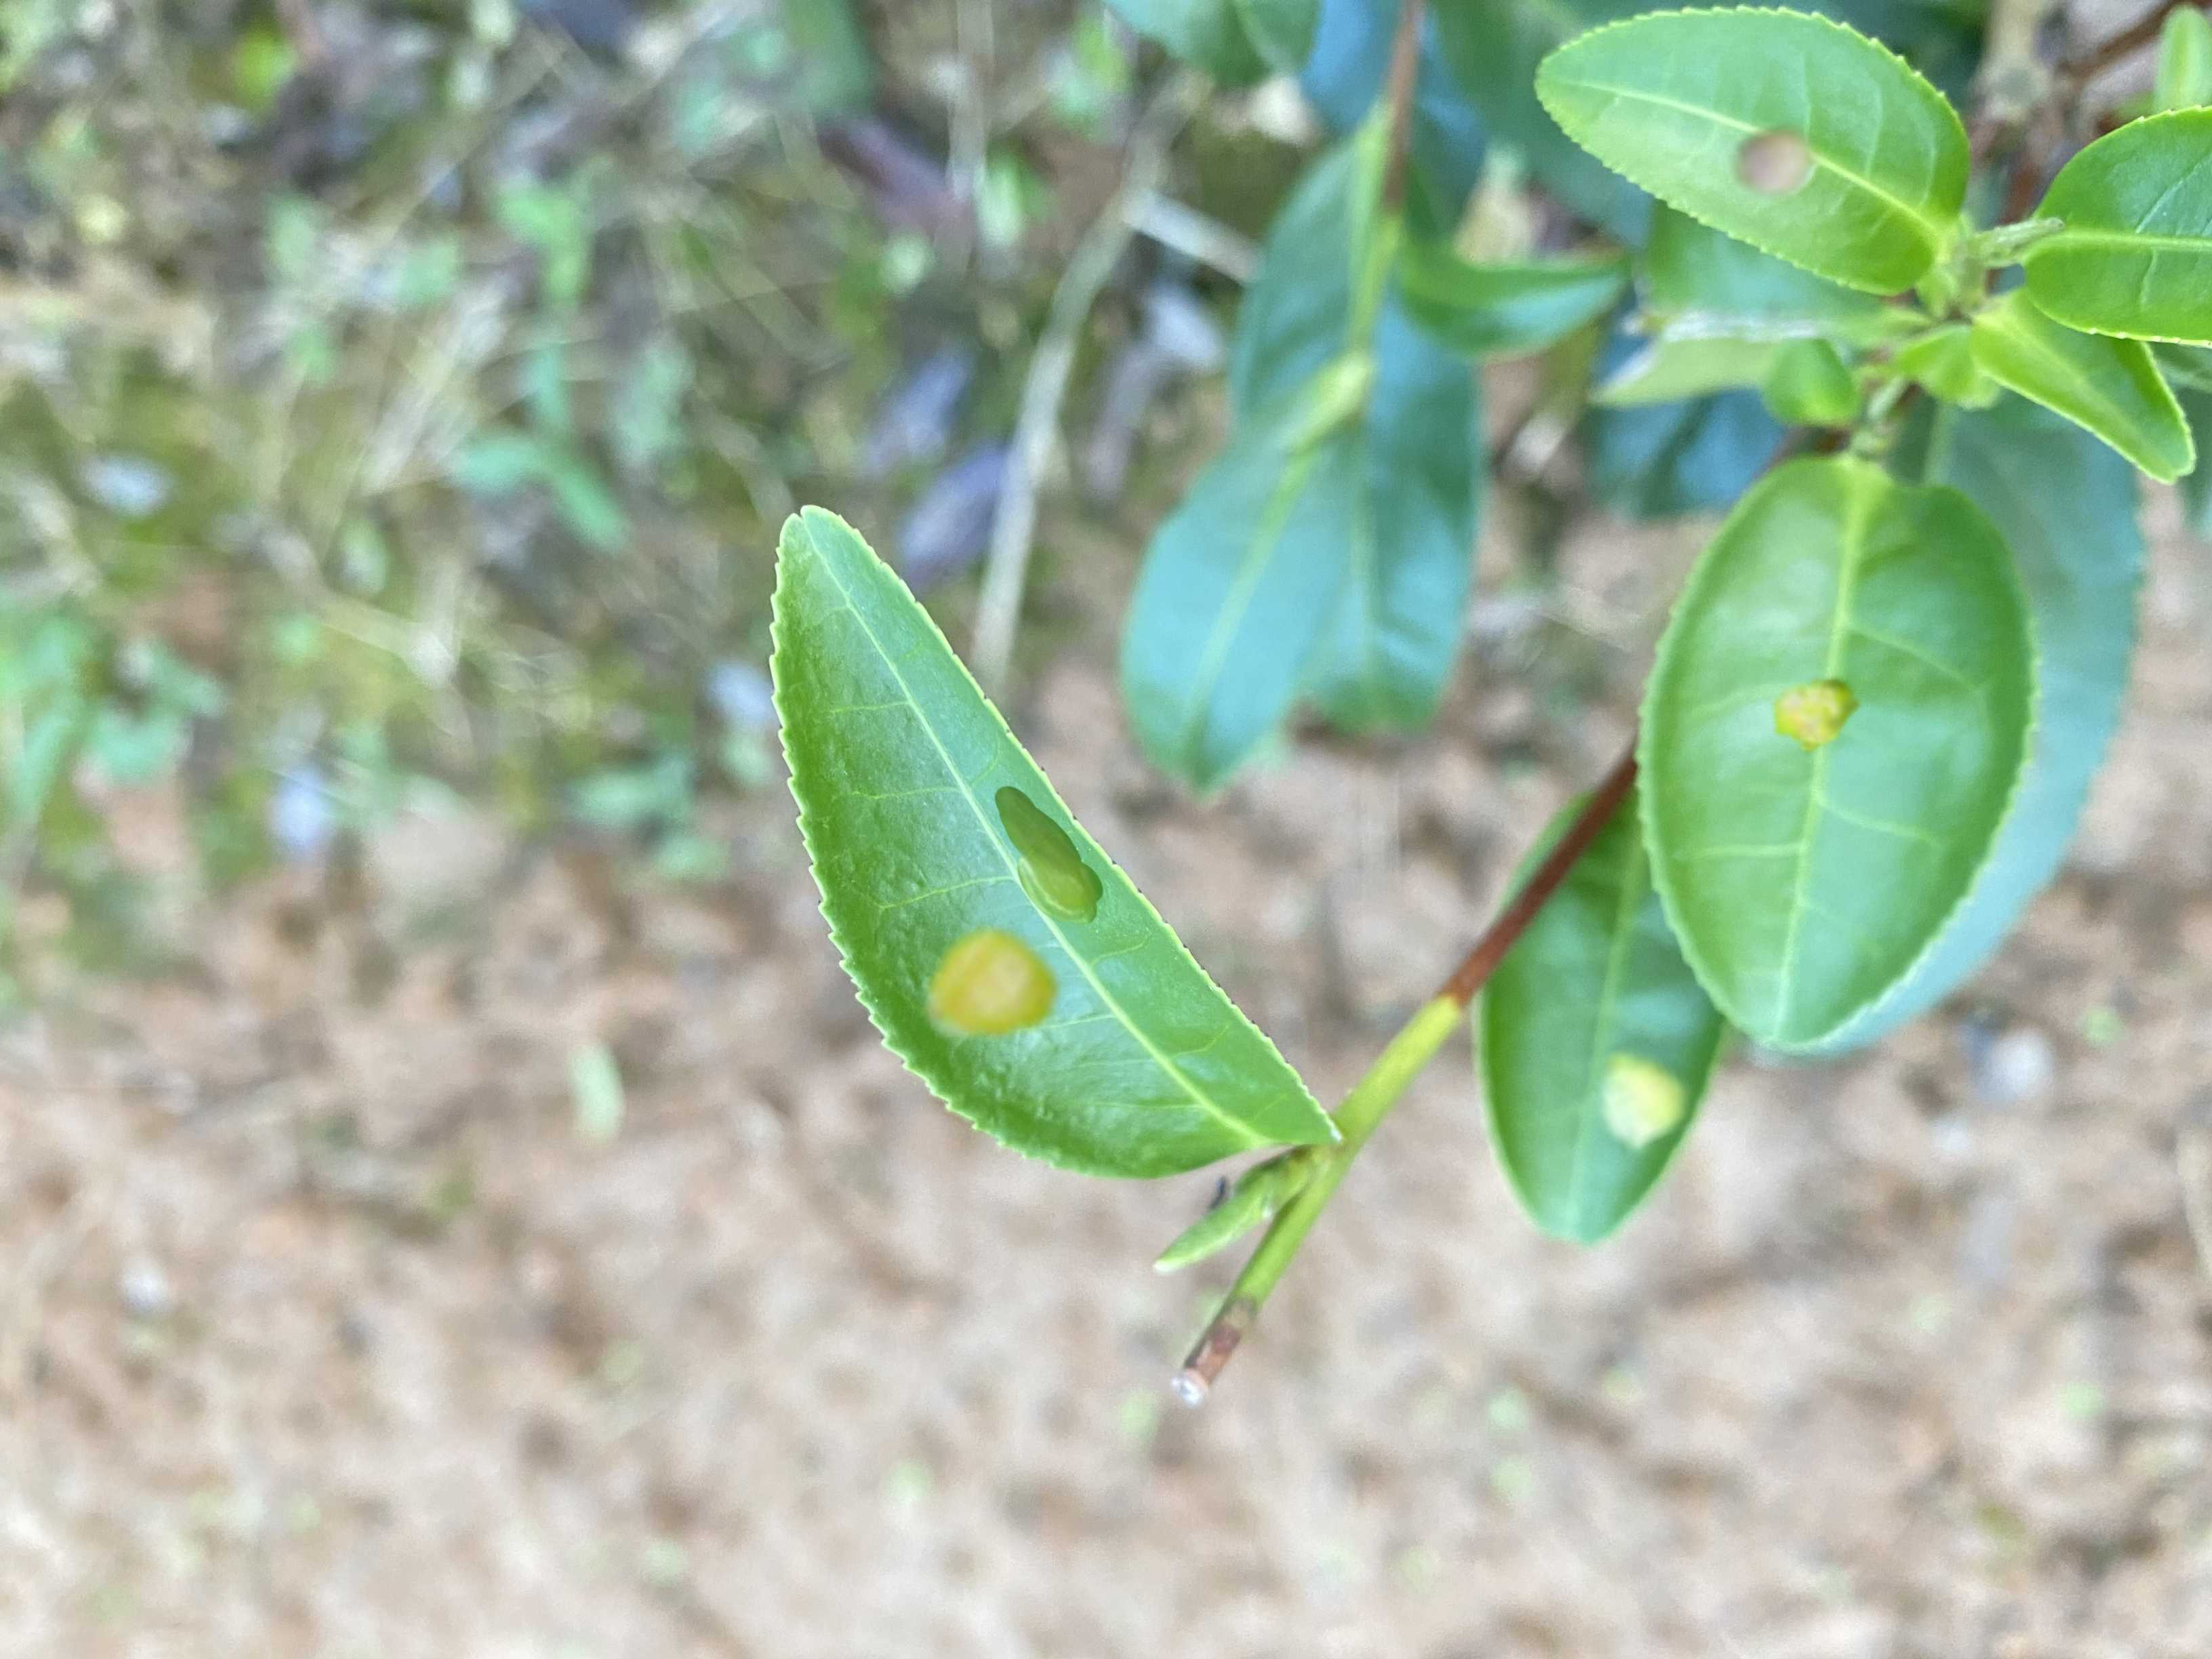chabing_high: (766, 504, 1345, 1180)
chabing_low: (1632, 446, 2038, 1058), (1531, 3, 1970, 300), (1474, 788, 1721, 1246)
healthy: (2019, 108, 2212, 345), (1973, 284, 2200, 483)
